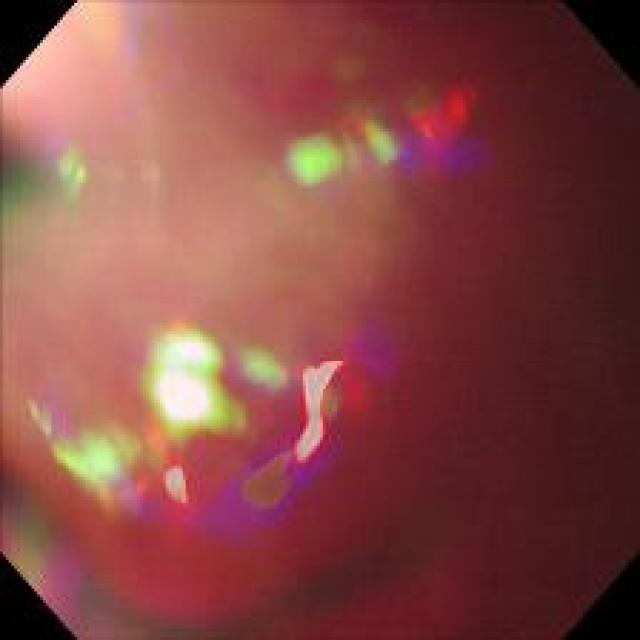color misalignment: (8, 6, 624, 625), (385, 10, 630, 629), (19, 310, 419, 534), (10, 516, 631, 631), (279, 39, 491, 222), (5, 102, 126, 244)
